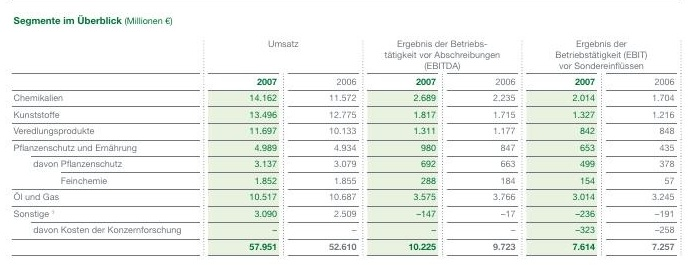table: (0, 0, 689, 265)
